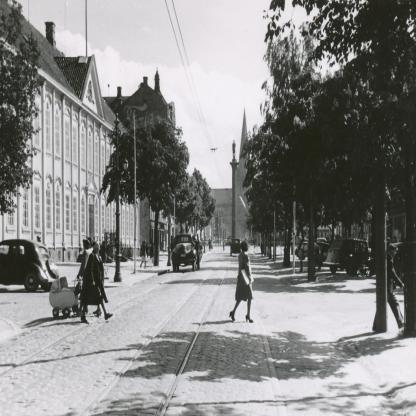Car: (1, 237, 58, 299), (323, 239, 372, 273)
